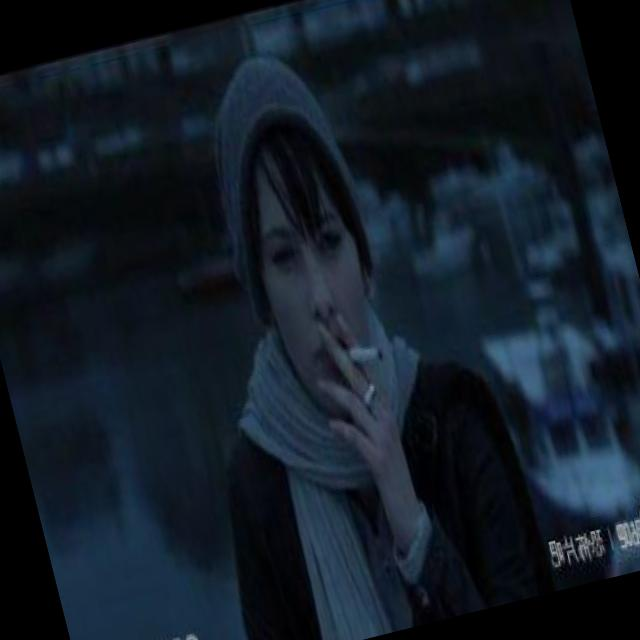smoke: (339, 327, 397, 372)
